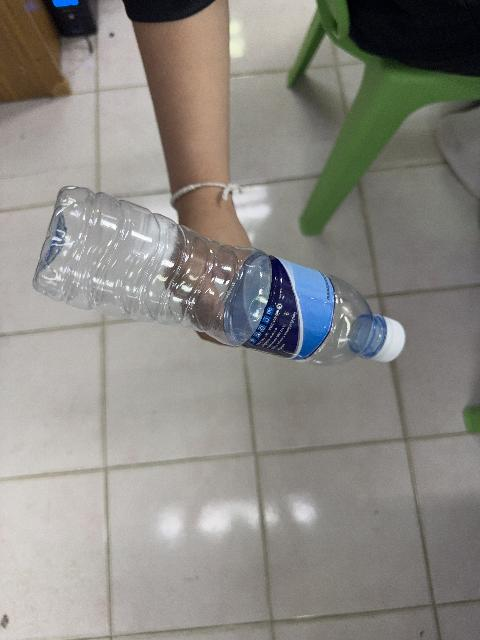bottle: (34, 187, 404, 364)
